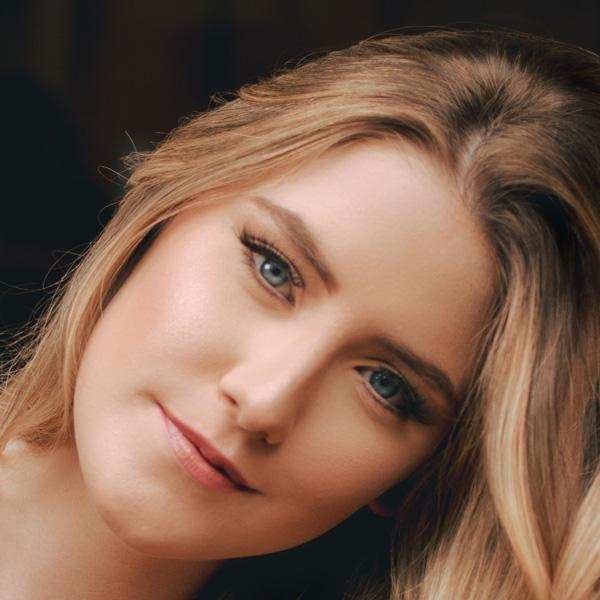Eyes: (345, 349, 432, 432), (230, 224, 301, 313)
